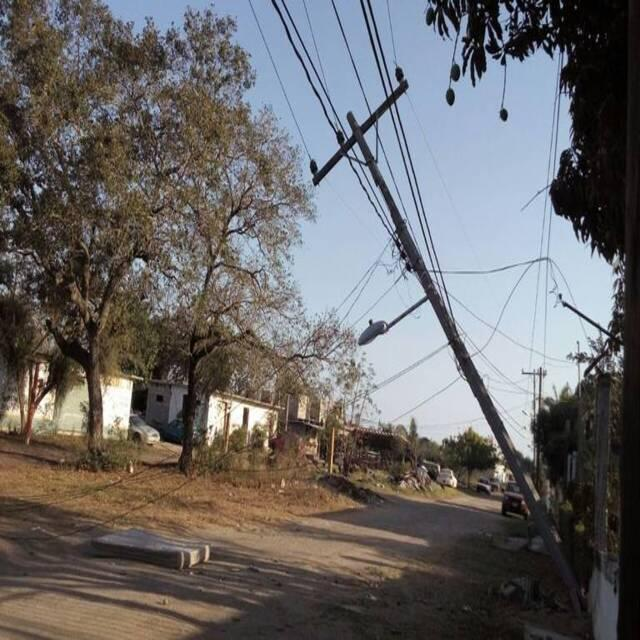Inclined Pole: (303, 60, 591, 615)
